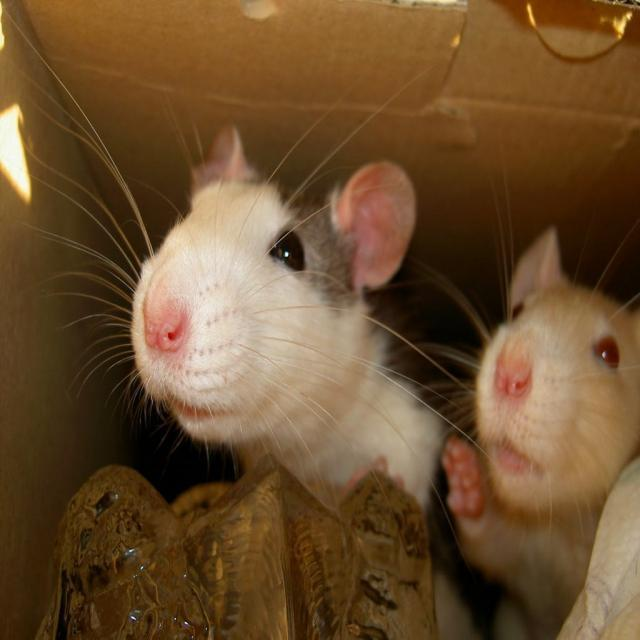rat: (9, 6, 470, 568), (440, 135, 640, 639)
